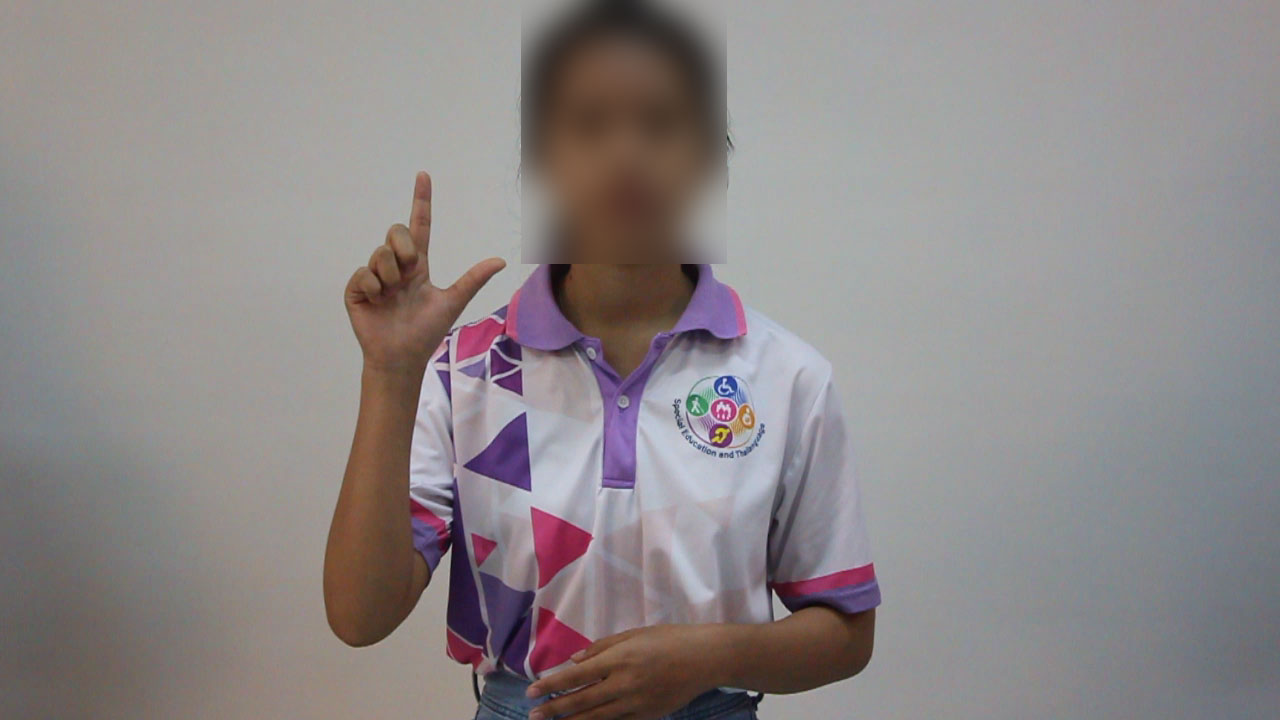lor: (290, 152, 523, 390)
